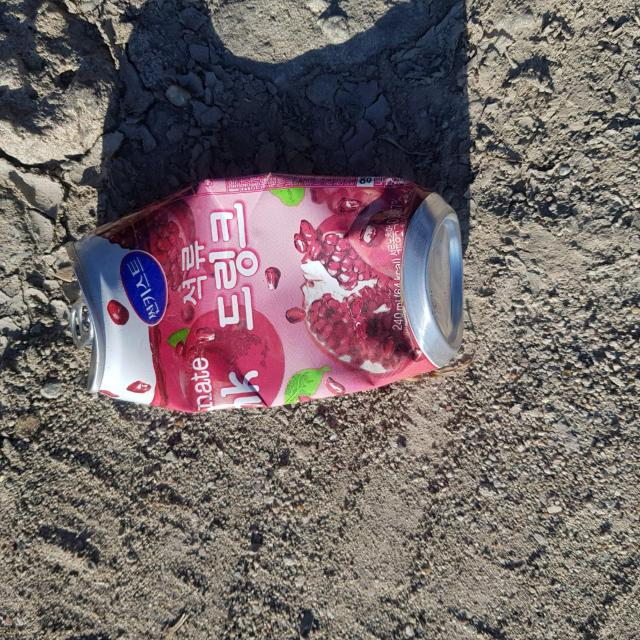can: (67, 173, 464, 412)
